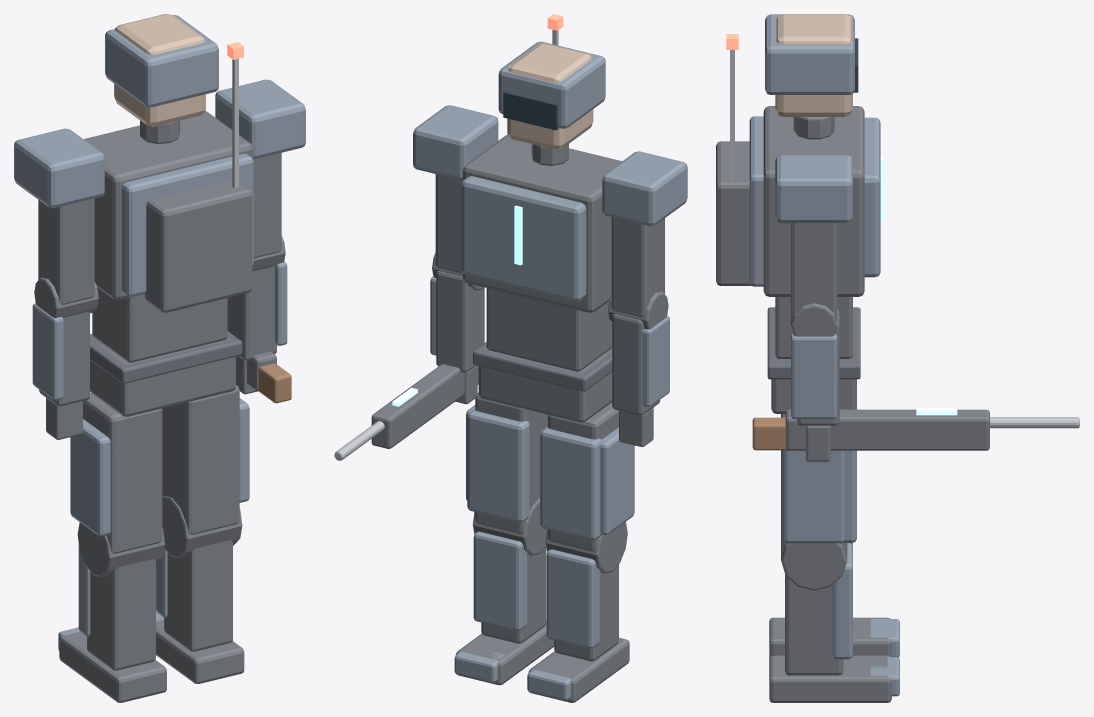
Rendered from soldier.glb.
3 renders of one model, left to right at view 1: azimuth 30°, elevation 25°; view 2: azimuth 150°, elevation 25°; view 3: azimuth 270°, elevation 25°, orthographic. The views are drawn at different scales.
Visible parts, largest first — view 1: backpack, thigh2, chest, thigh0, abdomen, shin0, shin2, helmet, pauldron0, back_plate, pelvis, upperarm0 (+23 smaller); view 2: chest_plate, chest, abdomen, thigh_plate2, thigh_plate0, pauldron0, shin_plate2, shin_plate0, pelvis, upperarm0, pauldron2, forearm2 (+23 smaller); view 3: chest, rifle_body, thigh_side2, pauldron2, helmet, backpack, foot2, shin2, head, upperarm2, forearm_plate2, chest_plate (+17 smaller).
Boxes of the visible parts, x1=… form: backpack: x1=144, y1=179, x2=252, y2=312; thigh2: x1=162, y1=385, x2=239, y2=534; chest: x1=84, y1=111, x2=252, y2=299; thigh0: x1=83, y1=393, x2=162, y2=553; abdomen: x1=92, y1=288, x2=227, y2=362; shin0: x1=87, y1=558, x2=155, y2=670; shin2: x1=164, y1=540, x2=232, y2=651; helmet: x1=105, y1=15, x2=218, y2=107; pauldron0: x1=14, y1=128, x2=104, y2=208; back_plate: x1=121, y1=153, x2=253, y2=296; pelvis: x1=90, y1=337, x2=235, y2=416; upperarm0: x1=38, y1=198, x2=94, y2=304; chest_plate: x1=461, y1=176, x2=586, y2=301; chest: x1=463, y1=134, x2=621, y2=312; abdomen: x1=486, y1=288, x2=612, y2=371; thigh_plate2: x1=467, y1=409, x2=529, y2=522; thigh_plate0: x1=540, y1=426, x2=601, y2=540; pauldron0: x1=602, y1=151, x2=687, y2=226; shin_plate2: x1=473, y1=531, x2=527, y2=630; shin_plate0: x1=546, y1=549, x2=599, y2=648; pelvis: x1=478, y1=348, x2=612, y2=422; upperarm0: x1=611, y1=217, x2=664, y2=317; pauldron2: x1=413, y1=105, x2=498, y2=179; forearm2: x1=436, y1=271, x2=484, y2=372; chest: x1=763, y1=106, x2=864, y2=296; rifle_body: x1=785, y1=409, x2=989, y2=450; thigh_side2: x1=783, y1=450, x2=845, y2=543; pauldron2: x1=775, y1=155, x2=852, y2=222; helmet: x1=765, y1=14, x2=854, y2=94; backpack: x1=716, y1=141, x2=751, y2=285; foot2: x1=769, y1=655, x2=891, y2=702; shin2: x1=785, y1=574, x2=843, y2=675; head: x1=775, y1=14, x2=852, y2=116; upperarm2: x1=791, y1=223, x2=837, y2=319; forearm_plate2: x1=791, y1=334, x2=837, y2=418; chest_plate: x1=864, y1=117, x2=880, y2=277.
Size of the model in its own units: 0.7209 by 1.73 by 0.8747.
